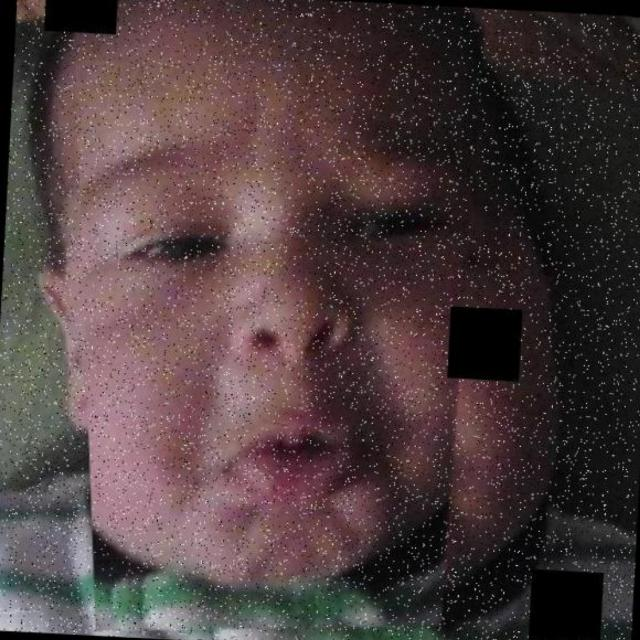Sad: (15, 96, 502, 571)
